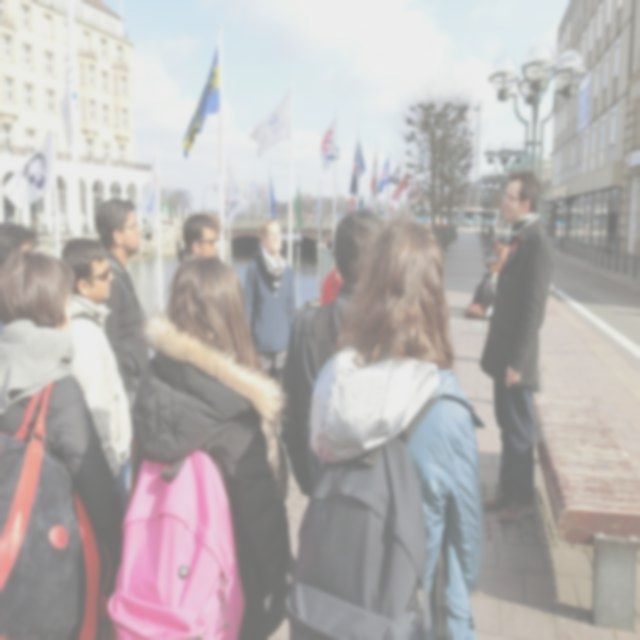pessoa: (100, 242, 304, 640), (273, 206, 385, 499), (474, 164, 558, 533), (284, 206, 386, 501), (58, 242, 134, 520), (60, 237, 134, 516), (92, 195, 151, 518), (163, 205, 232, 348), (242, 219, 296, 392), (1, 206, 64, 339), (314, 238, 362, 320), (483, 236, 508, 282), (600, 231, 618, 262)
